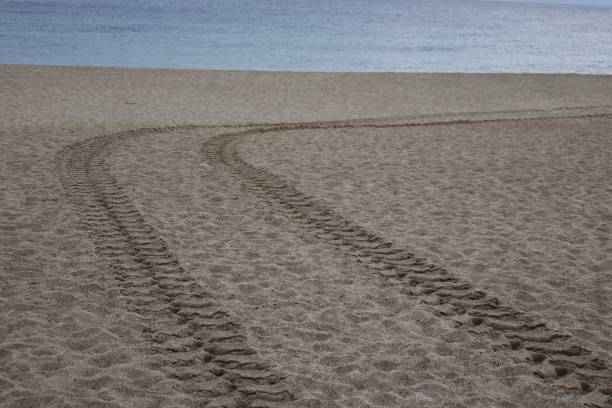vehicle_track: (202, 116, 611, 405), (58, 126, 294, 407)
